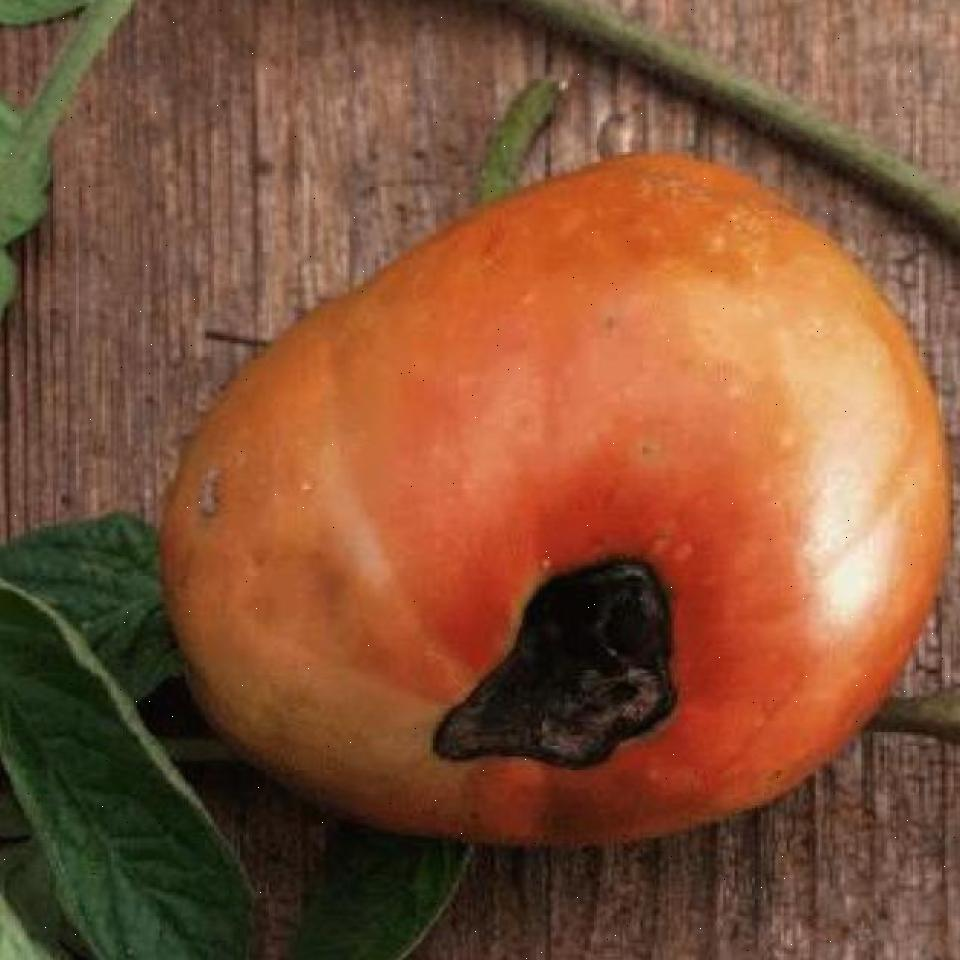Blossom_end_rot: (433, 552, 680, 776)
